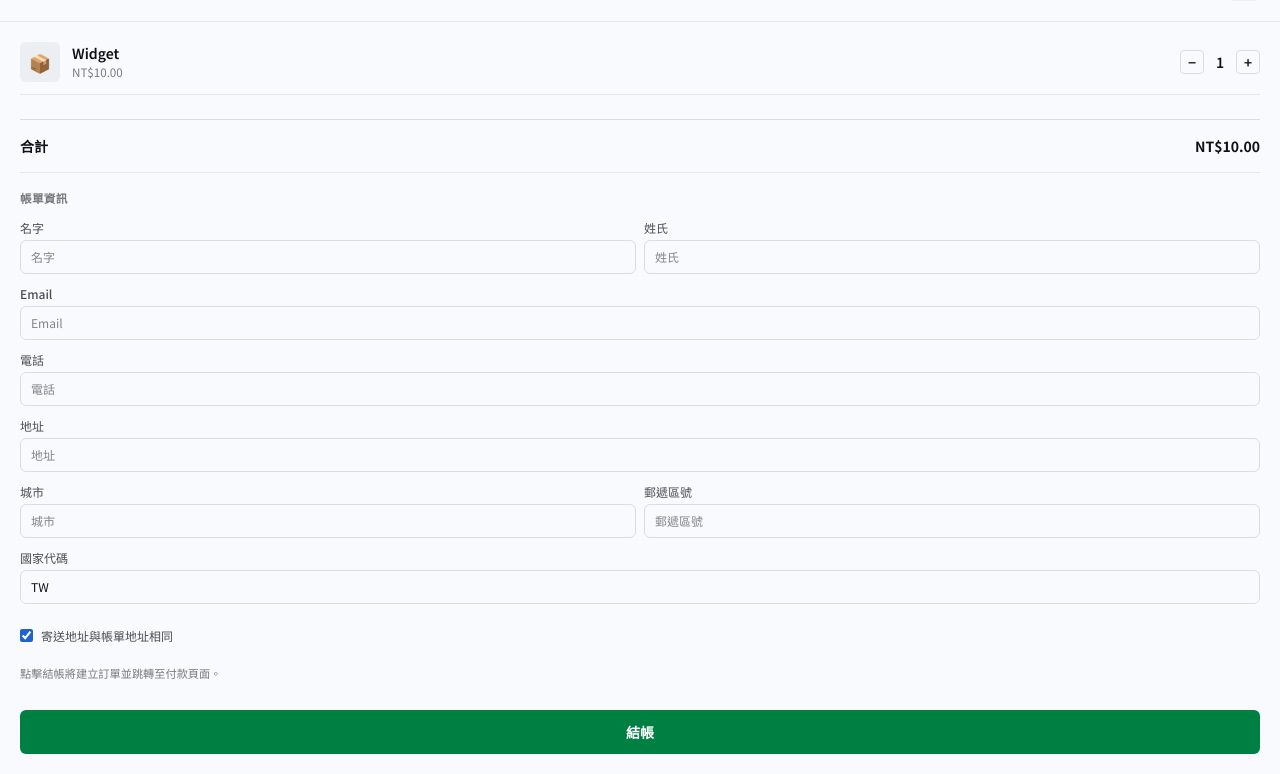
CartPanel › shows field validation error instead of WooCommerce error when billing is incomplete
(page scrolled)
Click the button "結帳".
click(640, 732)  # box [20,710,1260,754]
(page scrolled)
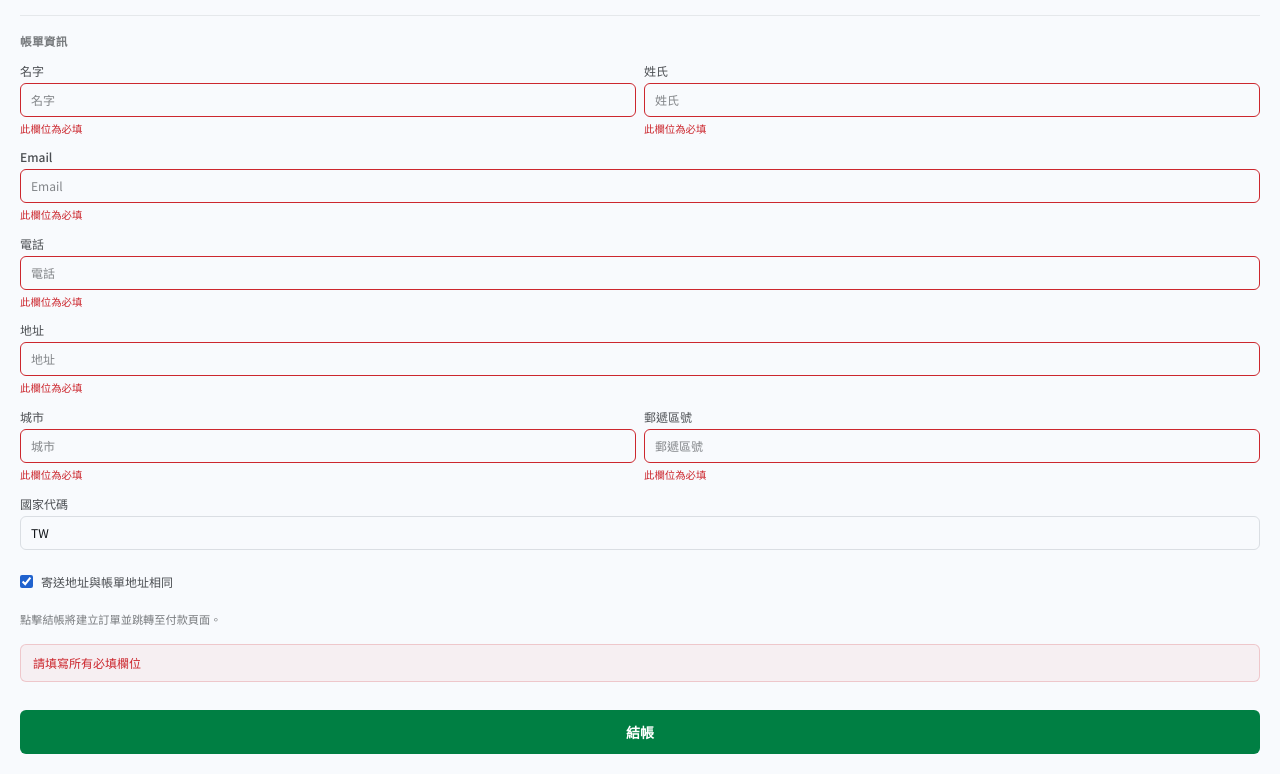
Now the text "請填寫所有必填欄位" is shown, box [20,644,1260,682]
